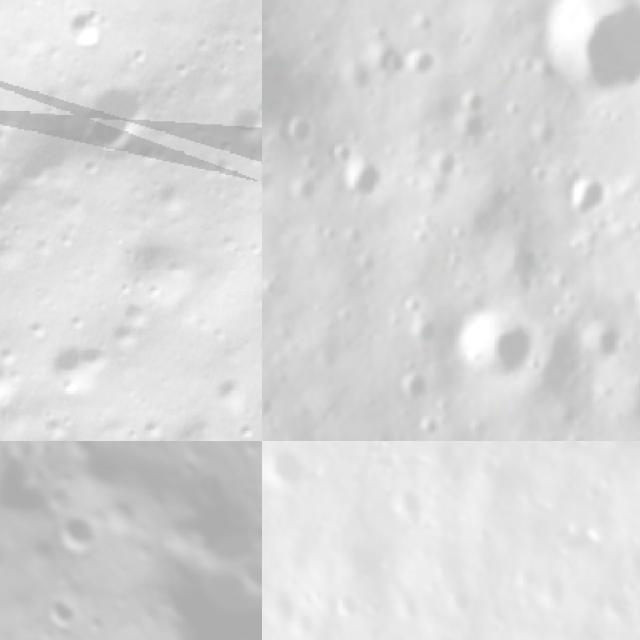crater: (146, 448, 262, 593), (113, 530, 262, 640), (61, 58, 179, 181), (529, 0, 640, 103), (0, 99, 98, 213), (24, 316, 116, 411), (262, 29, 339, 132), (456, 308, 544, 395), (36, 497, 111, 576), (39, 0, 111, 58), (208, 79, 262, 156), (486, 240, 548, 299), (26, 583, 89, 640), (558, 170, 618, 226), (577, 319, 635, 373), (262, 441, 326, 488), (339, 158, 396, 208), (391, 478, 434, 530), (398, 370, 442, 407), (398, 44, 440, 82), (279, 118, 319, 150), (0, 350, 23, 405), (407, 317, 443, 351), (370, 49, 402, 87), (331, 589, 362, 623), (262, 124, 273, 180), (433, 630, 469, 640)
